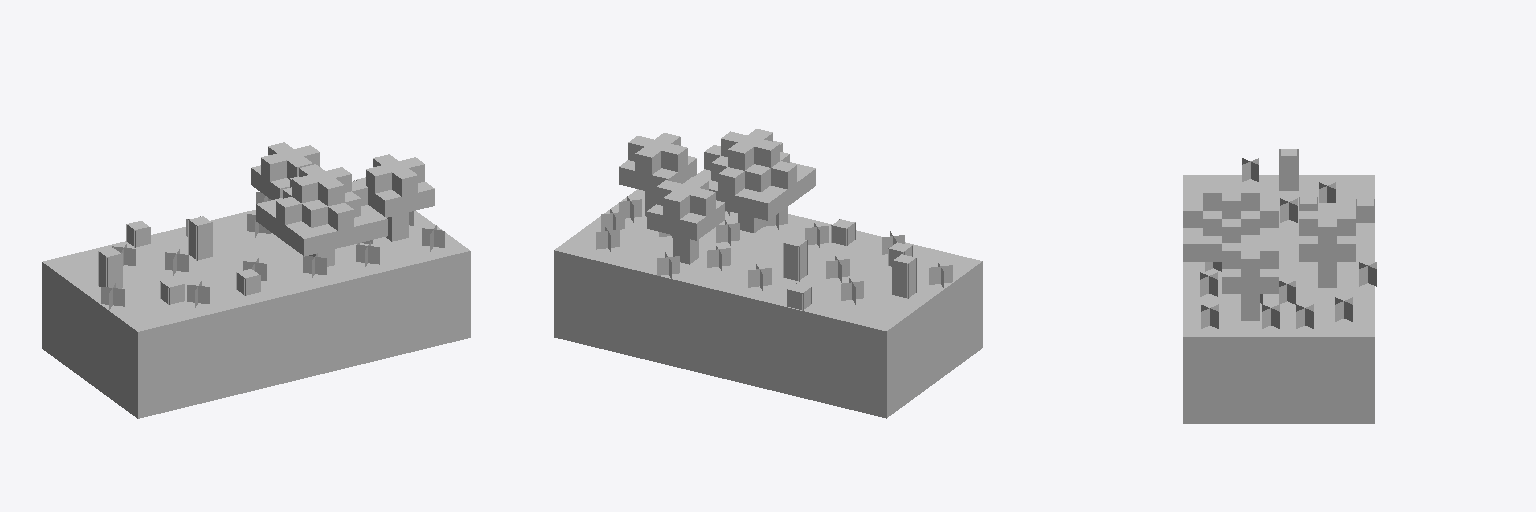
The model's file is tiny-desert-forest.obj.
The picture shows the model from 3 angles: view 1: azimuth 30°, elevation 25°; view 2: azimuth 150°, elevation 25°; view 3: azimuth 270°, elevation 25°; orthographic projection.
Parts seen in each view (by area): view 1: Honors_Various_Samples__114_197_-68_to_133_208_-59; view 2: Honors_Various_Samples__114_197_-68_to_133_208_-59; view 3: Honors_Various_Samples__114_197_-68_to_133_208_-59.
Boxes of the visible parts, x1,y1,x2,y2 form: Honors_Various_Samples__114_197_-68_to_133_208_-59: [42, 142, 470, 418]; Honors_Various_Samples__114_197_-68_to_133_208_-59: [554, 129, 982, 418]; Honors_Various_Samples__114_197_-68_to_133_208_-59: [1183, 149, 1376, 423].
Bounding box in the file's own units: 20 × 10 × 10.06.